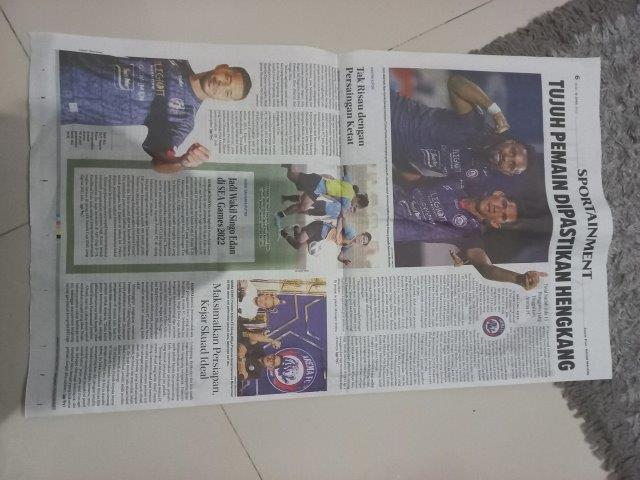kertas: (30, 31, 614, 415)
